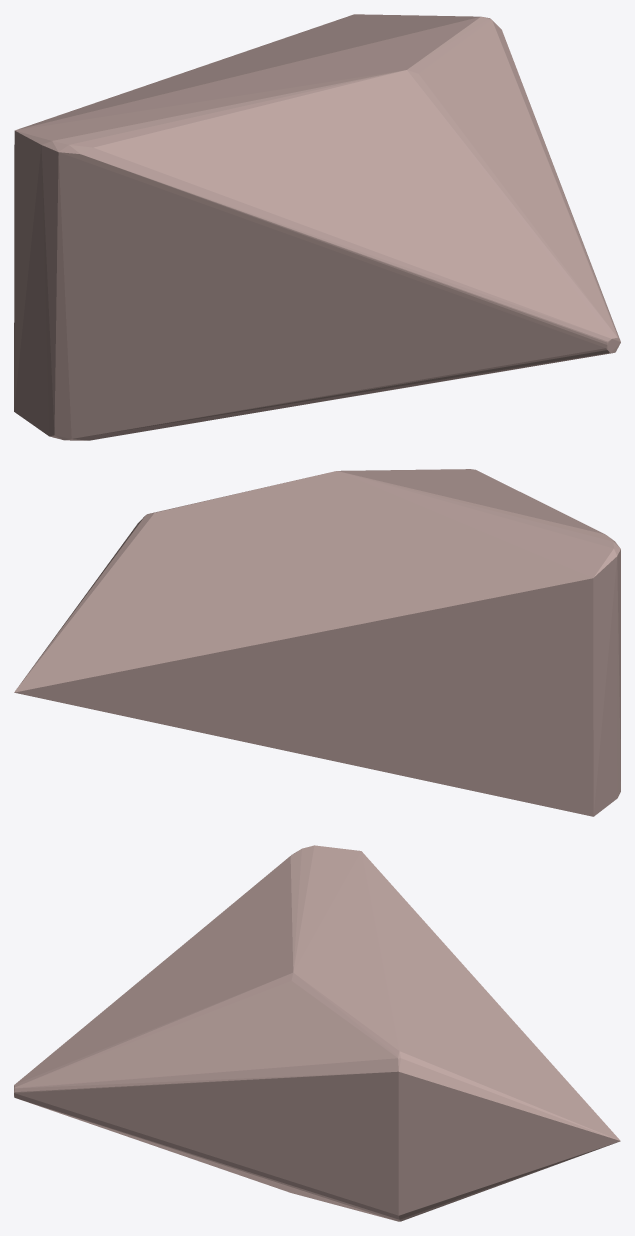
The model's file is trolley_instrument_b07.glb.
3 views of the same model, one above another, from view 1: azimuth 30°, elevation 25°; view 2: azimuth 150°, elevation 25°; view 3: azimuth 270°, elevation 25° (orthographic). The views are drawn at different scales.
Parts seen in each view (by area): view 1: geometry_0; view 2: geometry_0; view 3: geometry_0.
Boxes of the visible parts, bbox=[...] form: geometry_0: bbox=[14, 14, 620, 440]; geometry_0: bbox=[14, 469, 620, 816]; geometry_0: bbox=[14, 845, 620, 1221].
Size of the model in its own units: 0.3542 by 0.195 by 0.48.
